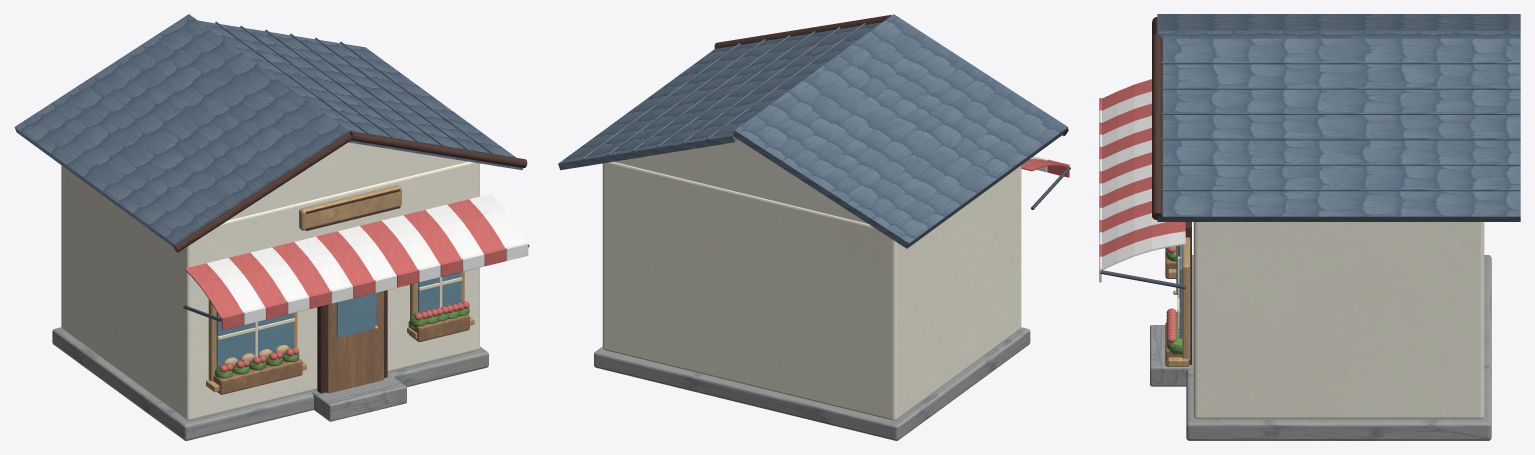
File: house_4.glb
The picture shows the model from 3 angles, left to right: view 1: azimuth 30°, elevation 25°; view 2: azimuth 150°, elevation 25°; view 3: azimuth 270°, elevation 25°; orthographic projection. The views are drawn at different scales.
Parts seen in each view (by area): view 1: house_4; view 2: house_4; view 3: house_4.
Part boxes in pixels (x1,y1,x2,y2): house_4: (14, 14, 529, 440); house_4: (558, 14, 1070, 440); house_4: (1099, 14, 1520, 440).
Bounding box in the file's own units: 5.76 × 4.44 × 5.22.
Materials: 3 (3 with a texture image).
